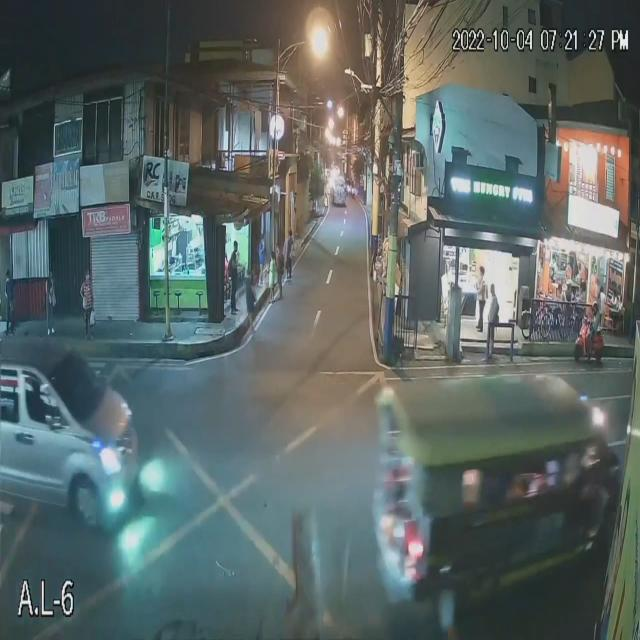Full-Faced: (590, 300, 600, 318)
